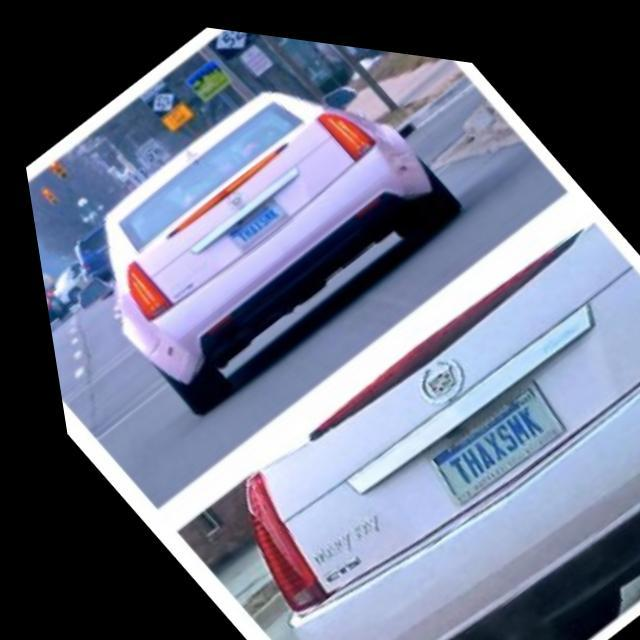license_plate: (395, 349, 577, 514), (216, 187, 286, 250)
